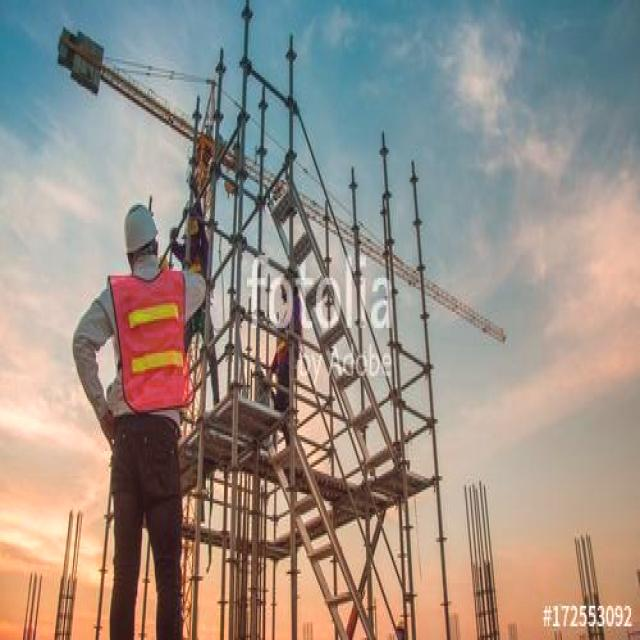head_helmet: (119, 205, 159, 251)
person: (111, 202, 198, 640)
vest: (110, 280, 195, 415)
